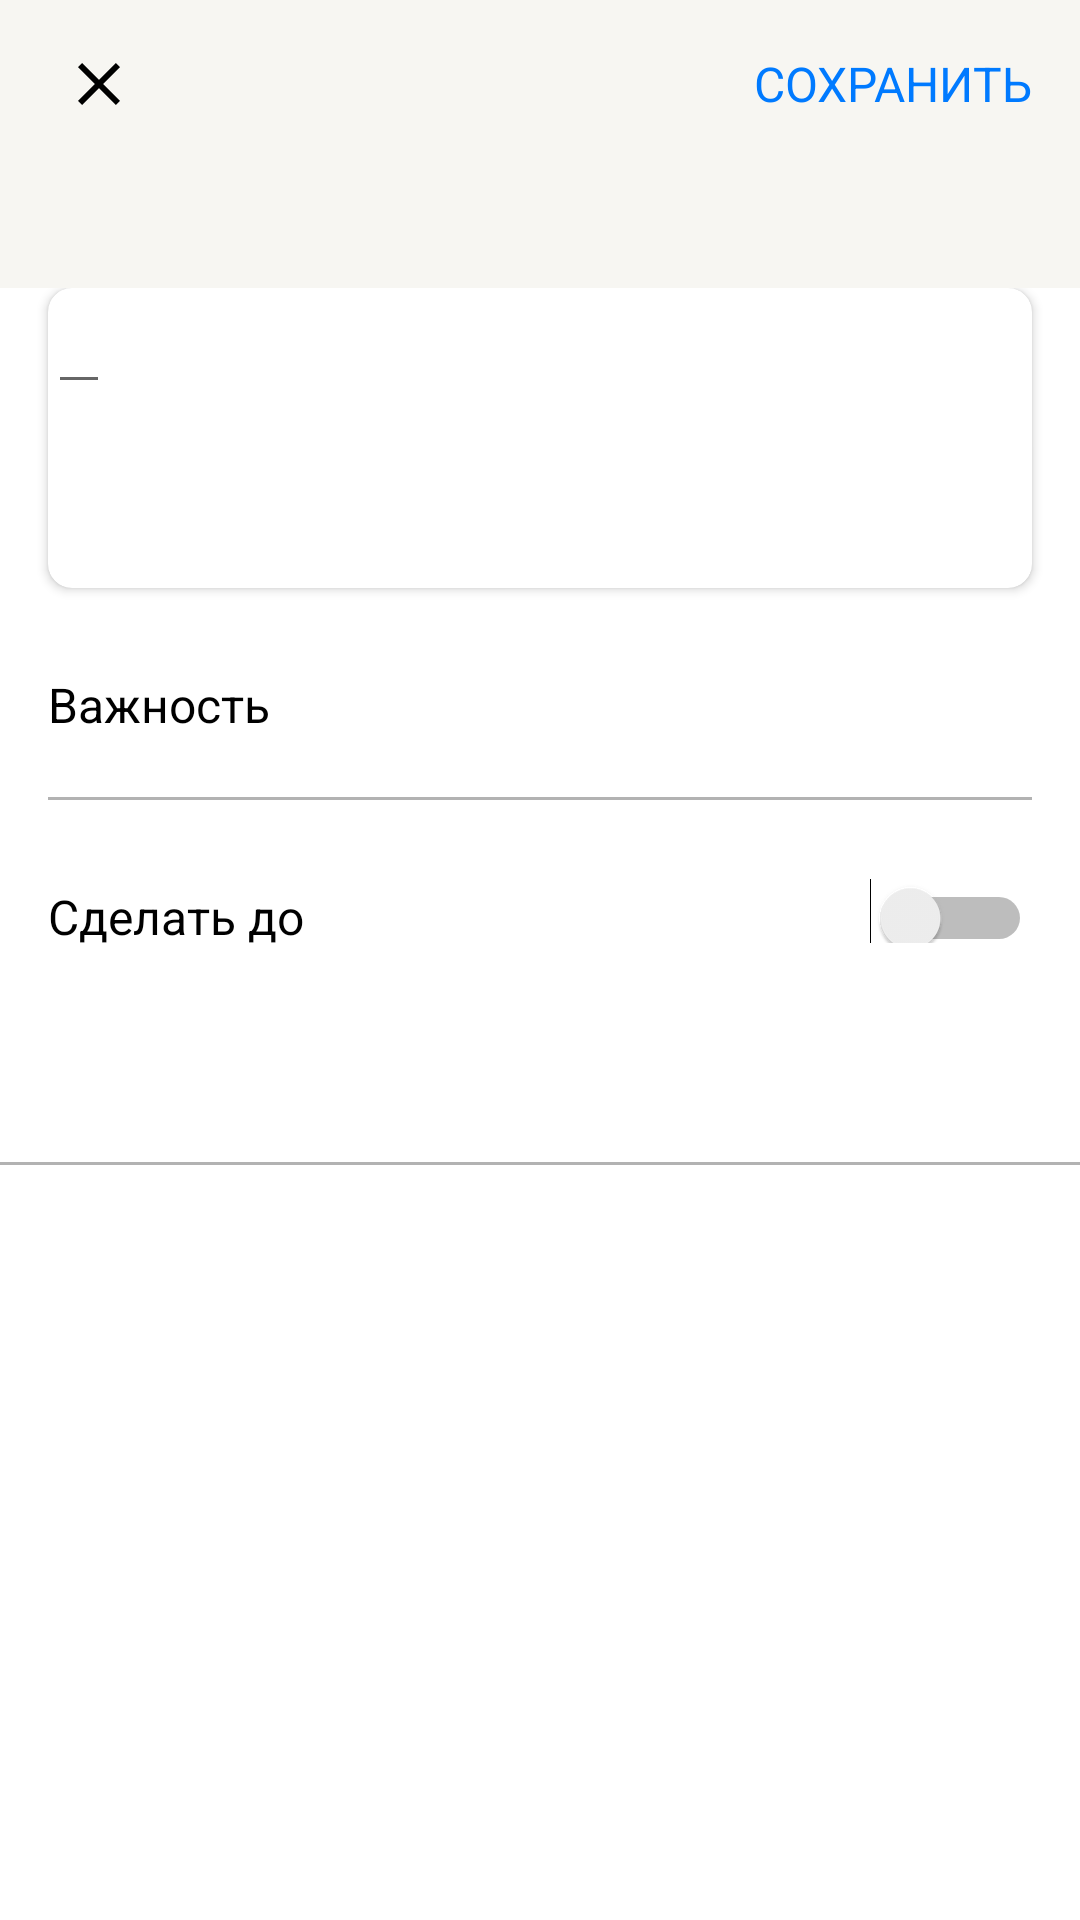

Icon bounding boxes for this 1080px x 1920px phone screenshot, format (x1, y1, x2, y2):
close: (78, 63, 120, 105)
